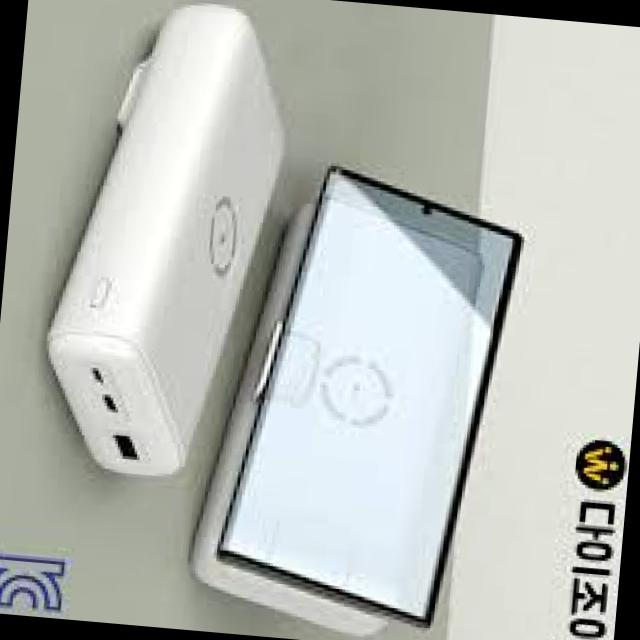power_bank: (178, 191, 488, 638), (25, 0, 301, 493)
